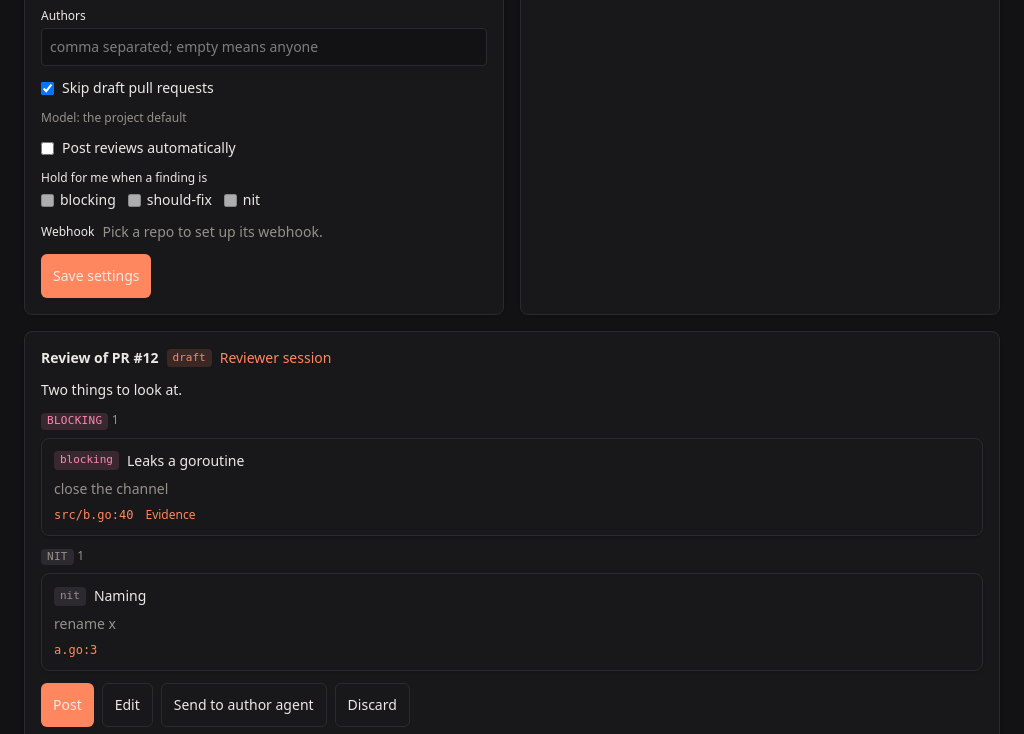
Drafts › says so when no agent owns the PR
This screenshot has width=1024, height=734.
(page scrolled)
Expected: the element with test id "draft-view" is shown, 41,348 -> 983,727
Click the button "Send to author agent": (244, 705) 161,683 -> 327,727
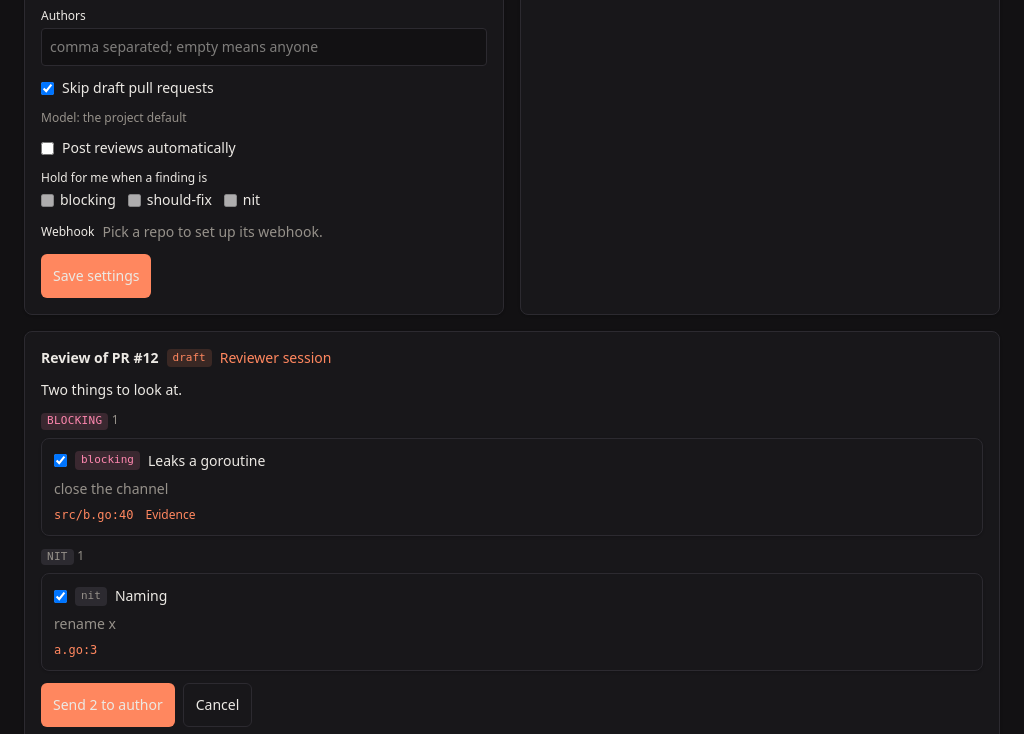
Click the button "Send 2 to author": (108, 705) 41,683 -> 175,727
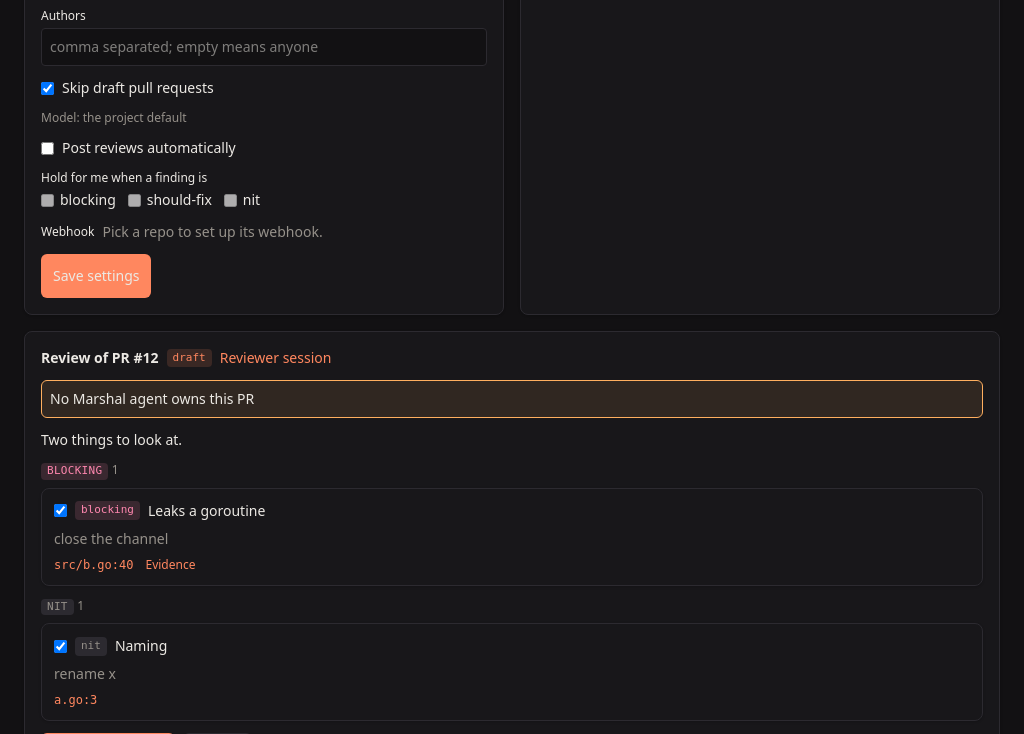
Expected: the text "No Marshal agent owns this PR" is shown, 41,380 -> 983,418
